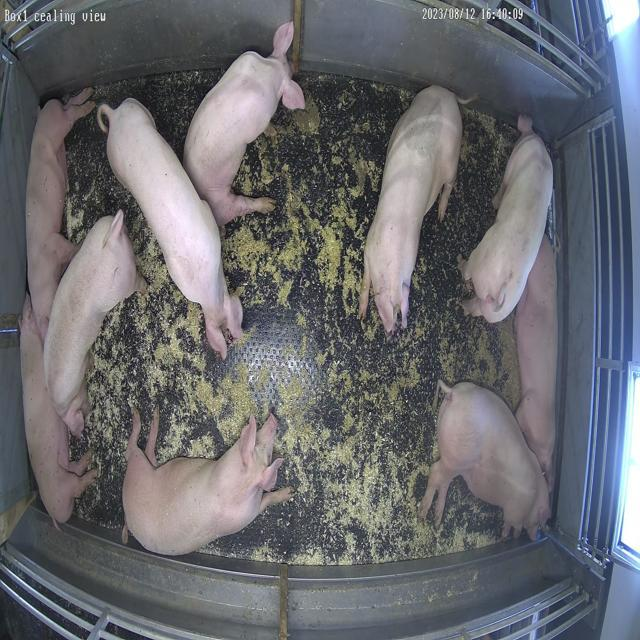Dirt: (229, 73, 416, 318), (410, 109, 518, 354)
Pig: (97, 98, 242, 358), (361, 85, 463, 334), (184, 21, 305, 226), (122, 412, 294, 556), (420, 381, 551, 540), (44, 211, 139, 416), (462, 122, 554, 323), (25, 87, 95, 338), (19, 299, 96, 524), (516, 236, 559, 492)
